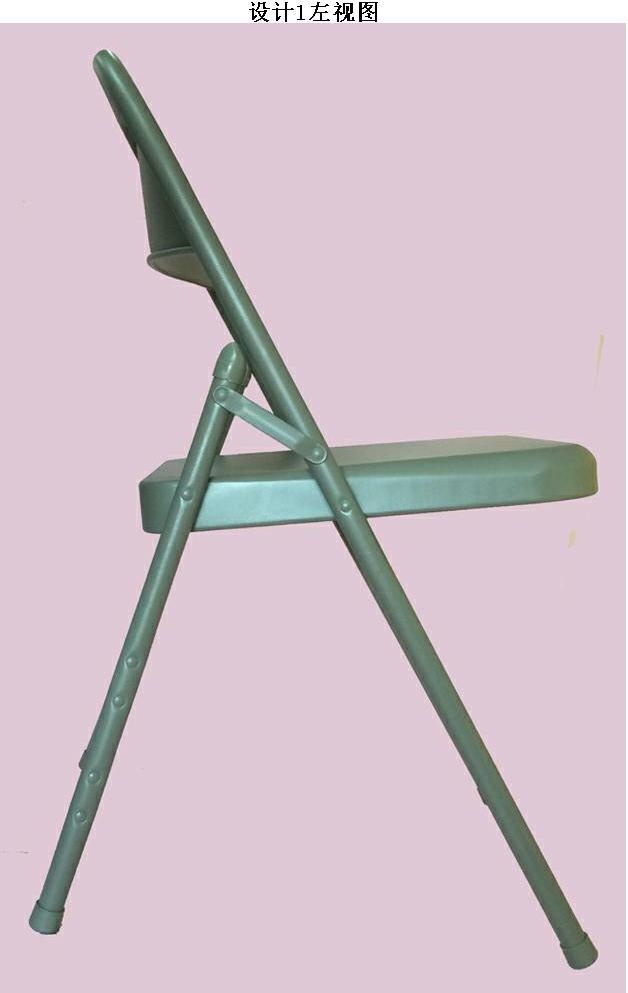obstacle: (29, 50, 596, 968)
